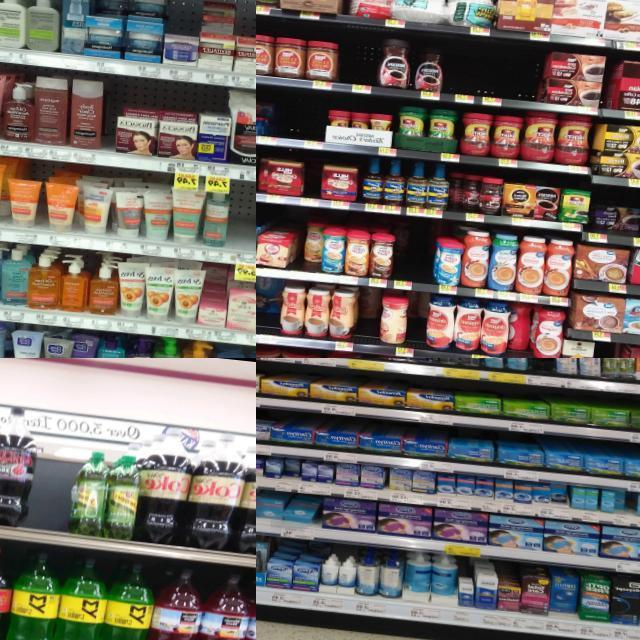Imprecise: (406, 558, 452, 606), (197, 264, 228, 328), (255, 275, 285, 333), (403, 290, 432, 348), (320, 555, 358, 597), (354, 286, 382, 339), (552, 575, 580, 620)
